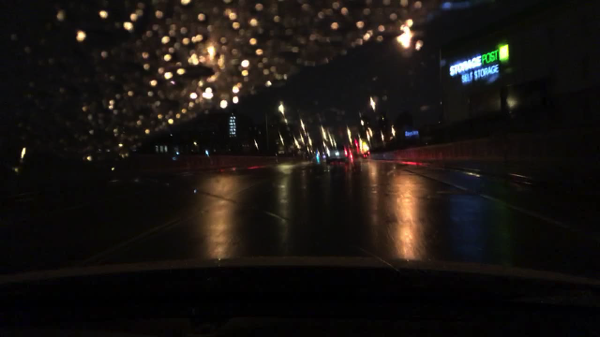car: (19, 153, 117, 194), (0, 157, 23, 198), (324, 143, 349, 166), (352, 149, 371, 159)
